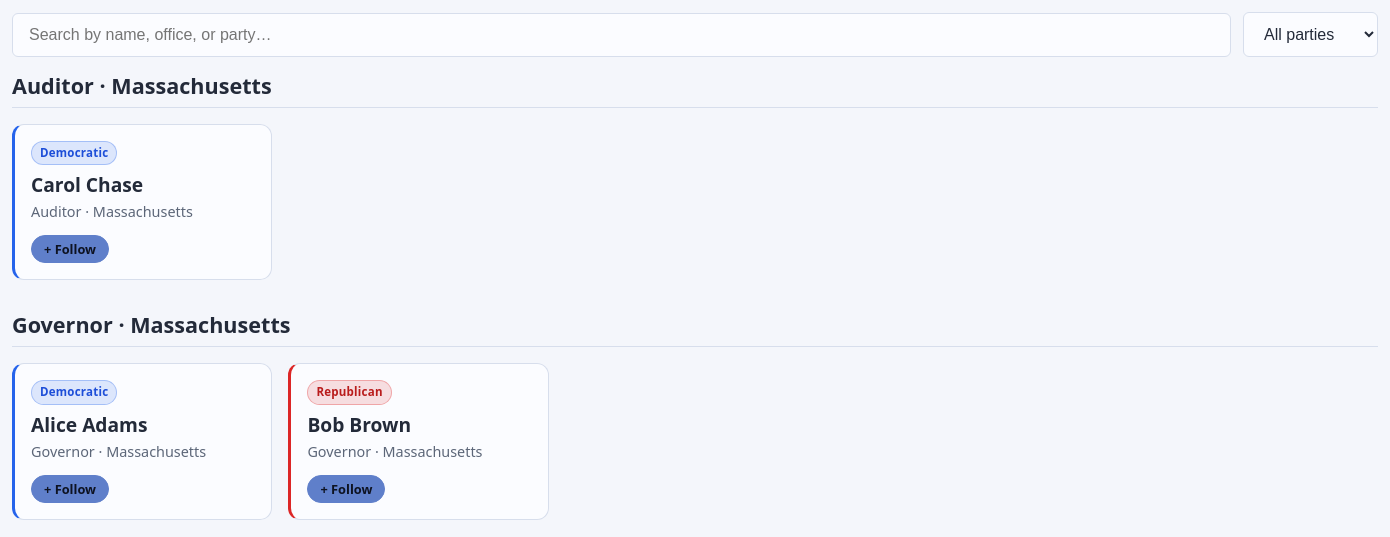
Test: CandidatesList party filter (Req 3.5) › shows only groups/candidates matching the selected party
The image size is (1390, 537).
Expected: the heading "Governor · Massachusetts" is shown, [12,312,1378,347]
Select "Republican" in the dropdown named "Filter by party" at (1310, 34), box [1243,12,1378,57]
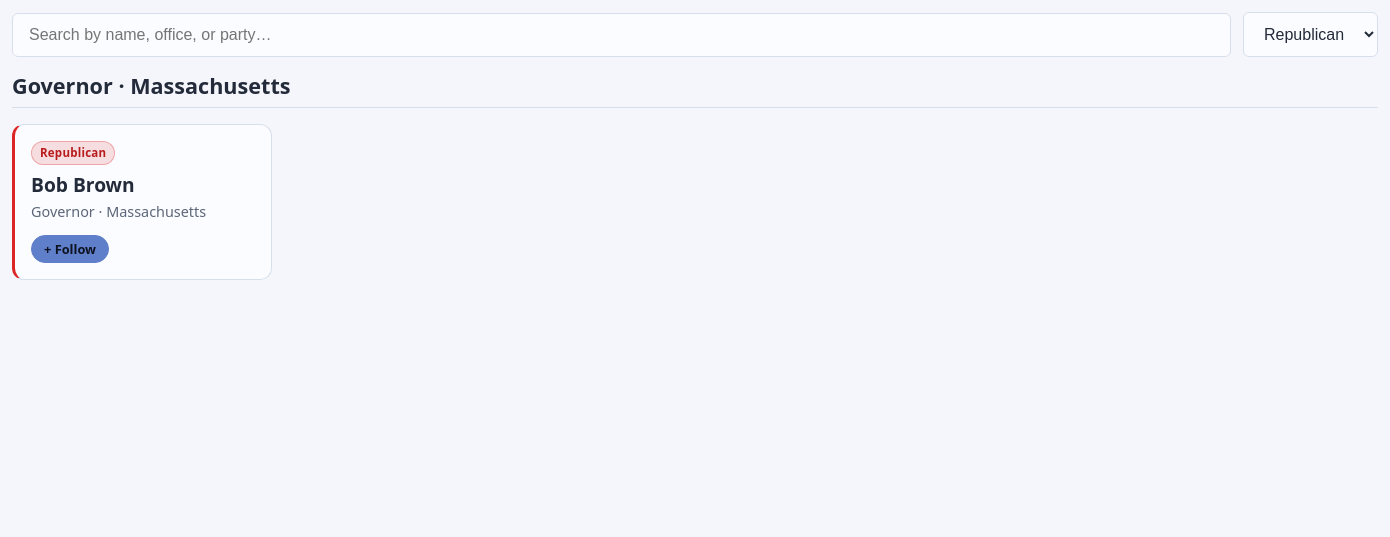
Expected: the link "Alice Adams" is gone
Expected: the link "Carol Chase" is gone
Expected: the heading "Auditor · Massachusetts" is gone
